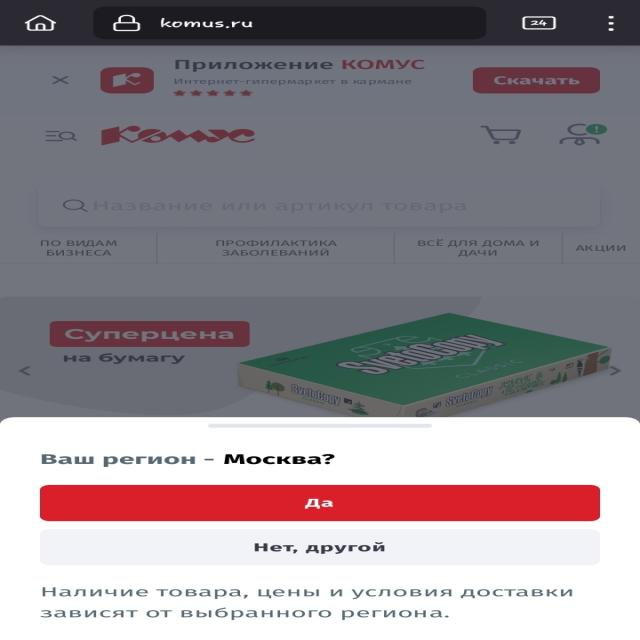button: (41, 484, 601, 522), (39, 530, 599, 566), (477, 68, 602, 94), (44, 71, 82, 89)
site: (0, 417, 640, 640), (0, 46, 640, 107)
